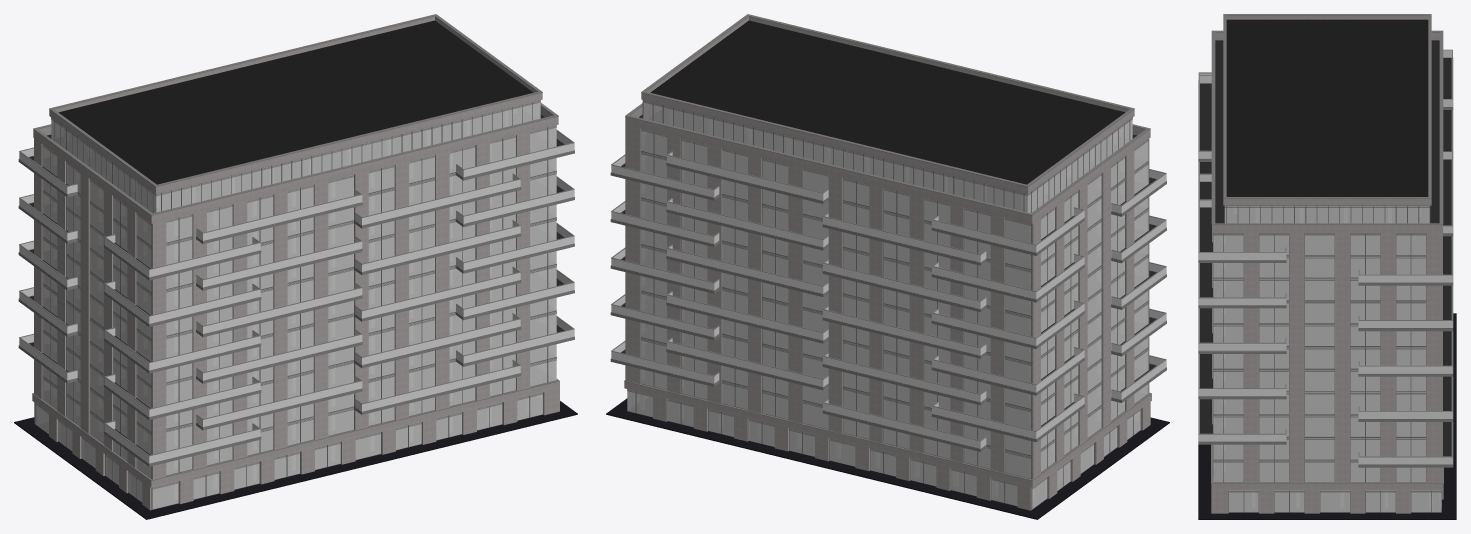
File: skyline_plaza.glb
3 views of the same model, side by side, from view 1: azimuth 30°, elevation 25°; view 2: azimuth 150°, elevation 25°; view 3: azimuth 270°, elevation 25° (orthographic). The views are drawn at different scales.
Parts seen in each view (by area): view 1: Skyline Plaza Main; view 2: Skyline Plaza Main; view 3: Skyline Plaza Main.
Boxes of the visible parts, x1,y1,x2,y2 form: Skyline Plaza Main: (14, 14, 577, 519); Skyline Plaza Main: (606, 14, 1169, 519); Skyline Plaza Main: (1198, 14, 1456, 519).
Bounding box in the file's own units: 1.28 × 0.903 × 0.68.
Materials: 16 (3 with a texture image).
